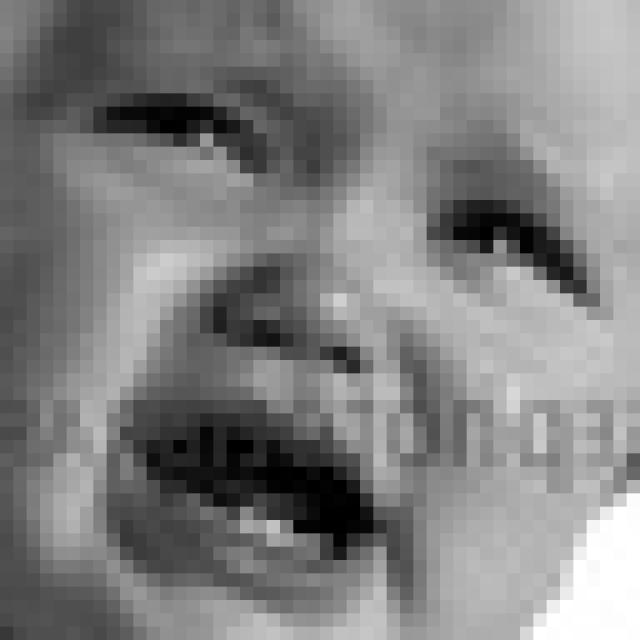sad: (36, 36, 602, 618)
